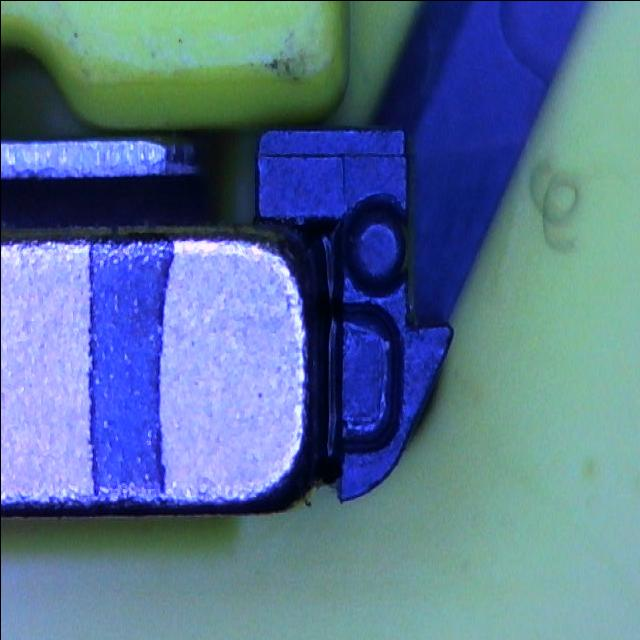good: (331, 300, 399, 454)
